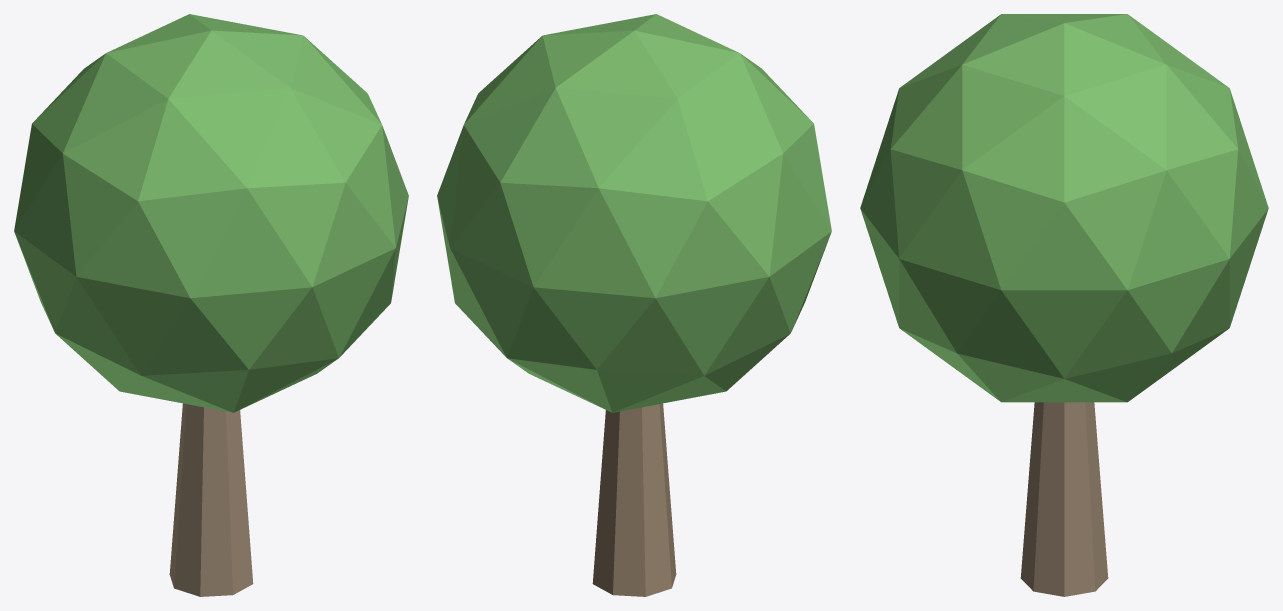
File: maple_small.glb
3 renders of one model, left to right at view 1: azimuth 30°, elevation 25°; view 2: azimuth 150°, elevation 25°; view 3: azimuth 270°, elevation 25°, orthographic.
Parts seen in each view (by area): view 1: Deciduous; view 2: Deciduous; view 3: Deciduous.
Boxes of the visible parts, x1=… form: Deciduous: x1=14, y1=14, x2=408, y2=596; Deciduous: x1=437, y1=14, x2=831, y2=596; Deciduous: x1=860, y1=14, x2=1268, y2=596.
Size of the model in its own units: 0.6657 by 1.05 by 0.7.
